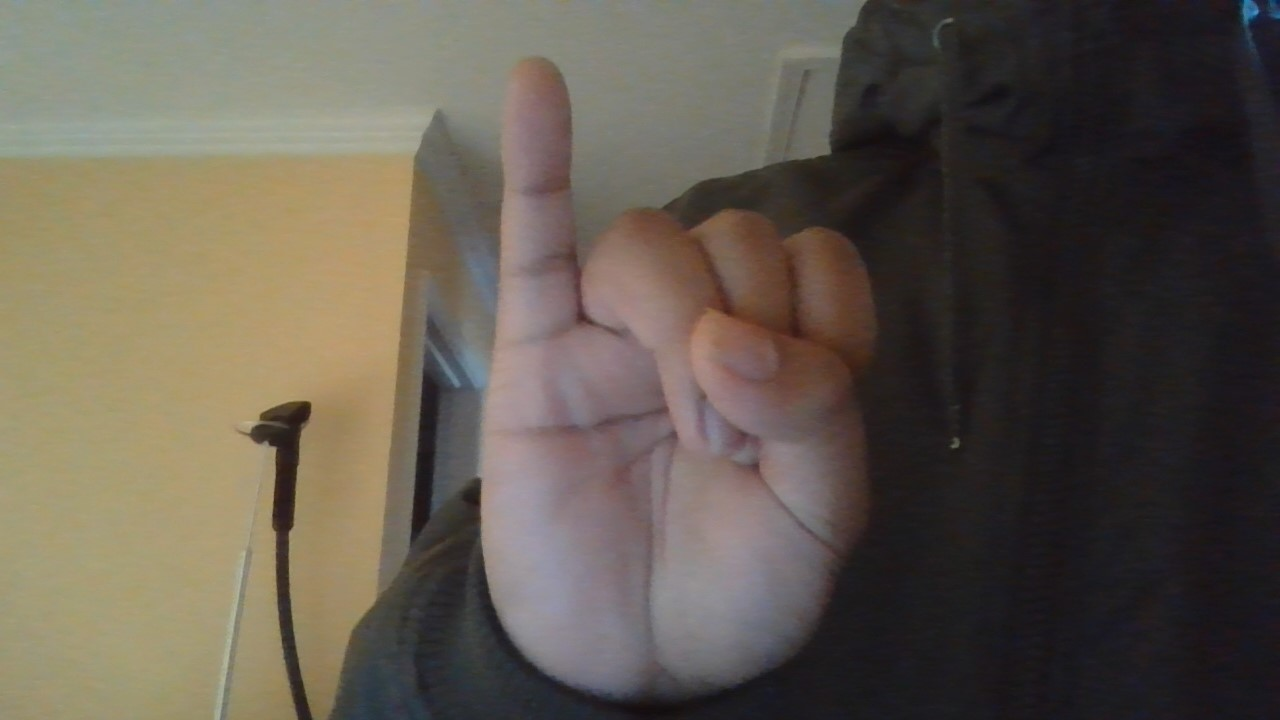i: (412, 48, 916, 712)
